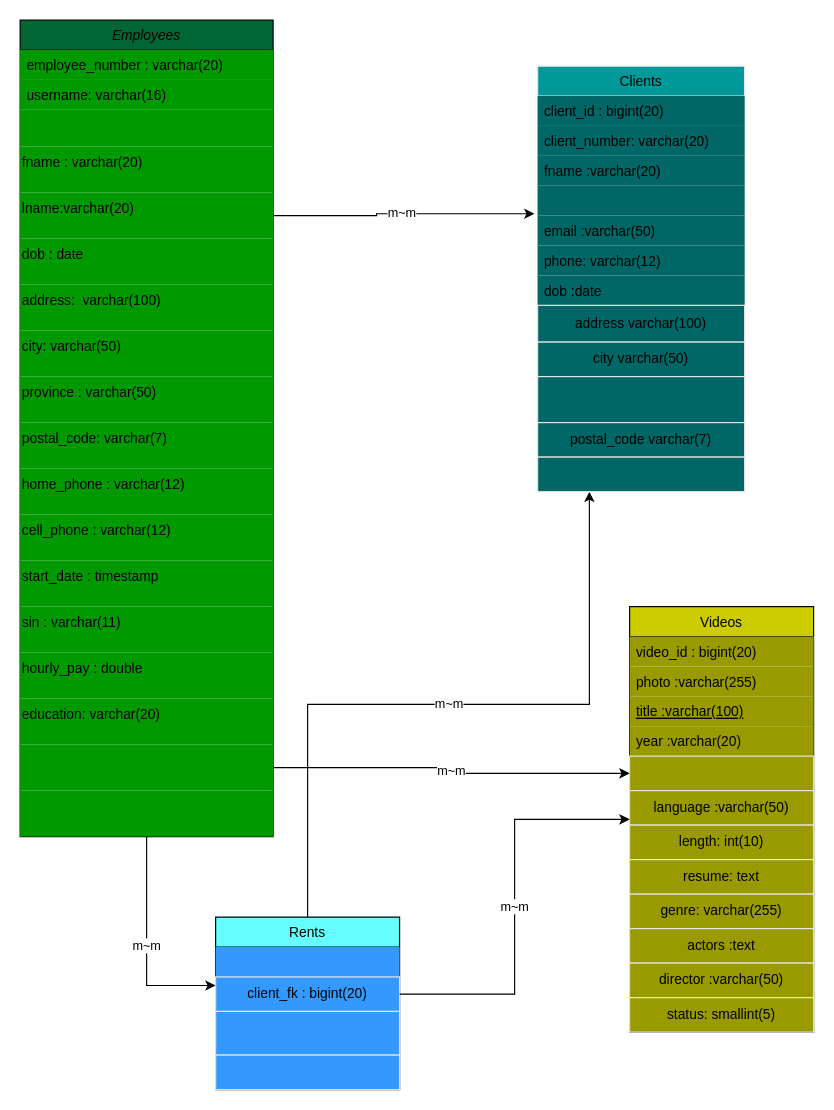
Some shapes in this 834 by 1110 pixel diagram are drawn without their labels. The shapes that lost their labels are listed below. From the top down, each one's centre as x and y in pixels, then its label:
the point at 146,127: password: varchar(255)
the point at 640,200: lname: varchar(20)
the point at 640,399: province varchar(50)
the point at 640,474: status smallint(5)
the point at 146,767: level : smallint(5)
the point at 721,773: country : varchar(50)
the point at 146,813: status : smallint(5)
the point at 307,961: rent_id : bigint(20)
the point at 307,1032: video_fk : bigint(20)
the point at 307,1072: rent_date: timestamp
